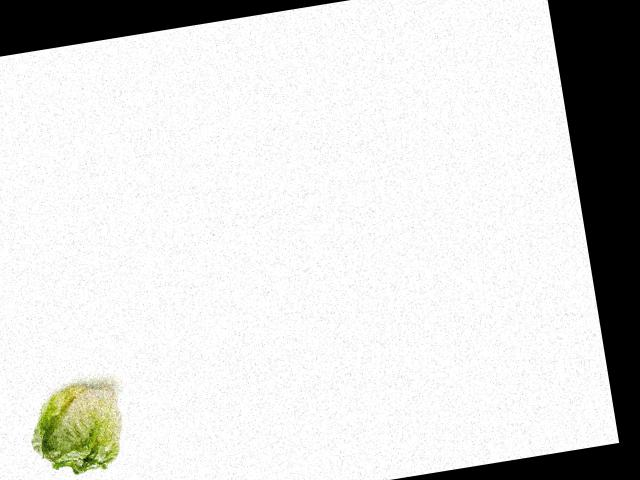lettuce: (19, 380, 136, 480)
